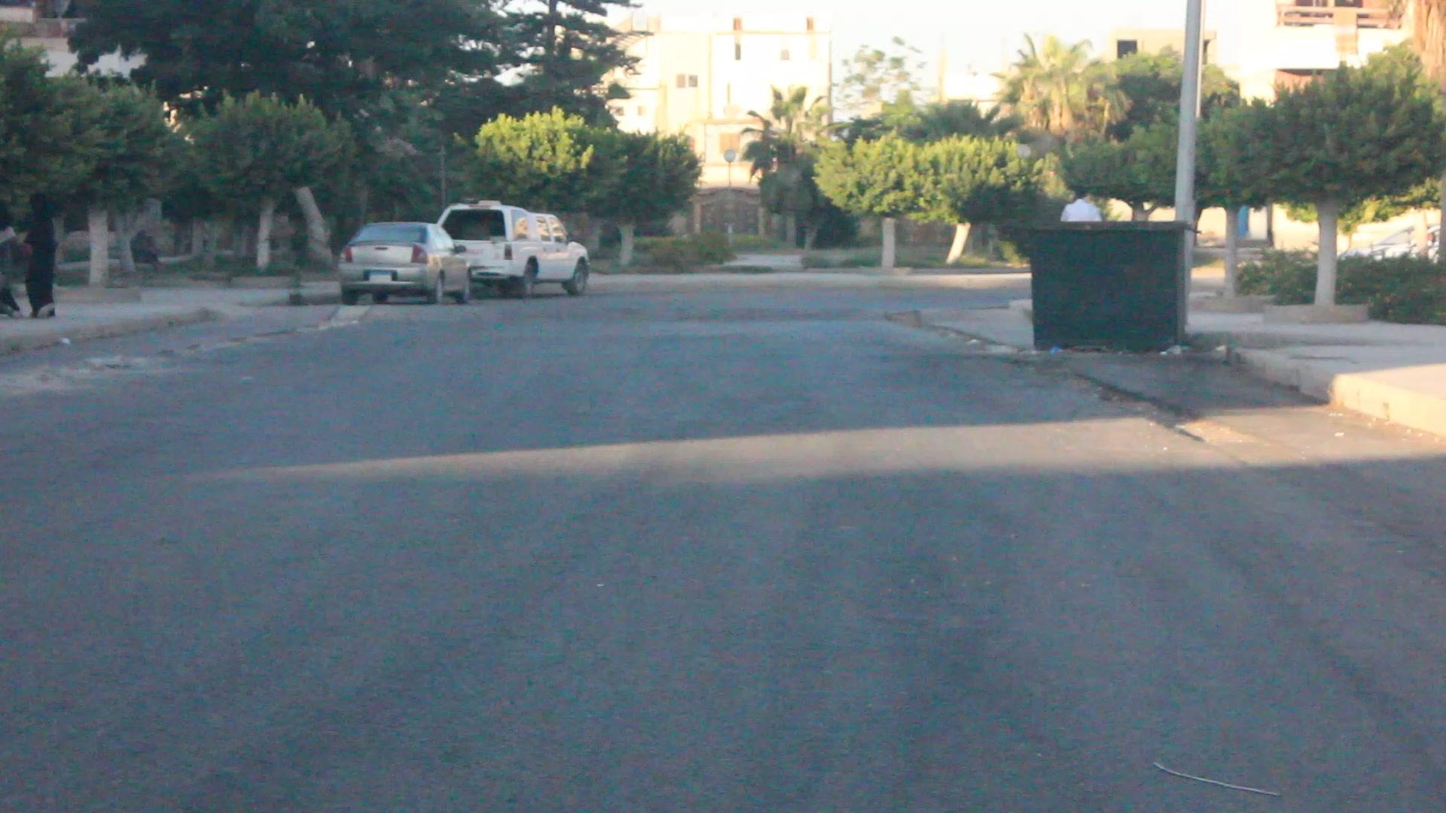Bump: (209, 305, 938, 330)
